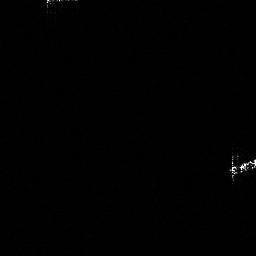ship: (231, 159, 256, 176)
